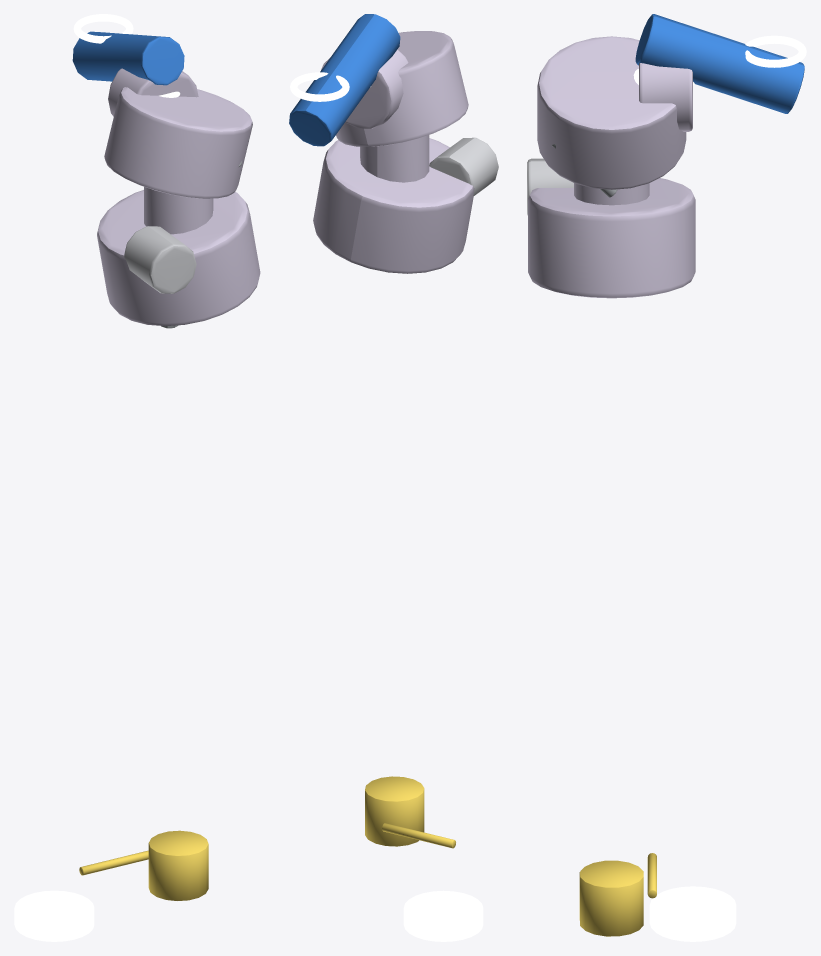
Rendered from engine_v8_turbo_r.glb.
The picture shows the model from 3 angles, left to right: view 1: azimuth 30°, elevation 25°; view 2: azimuth 150°, elevation 25°; view 3: azimuth 270°, elevation 25°; orthographic projection. The views are drawn at different scales.
Visible parts, largest first — view 1: Engine_V8_Turbo_R, GEO_V8Turbo_WastegateActuator, GEO_V8Turbo_BilletImpeller; view 2: Engine_V8_Turbo_R, GEO_V8Turbo_WastegateActuator, GEO_V8Turbo_BilletImpeller; view 3: Engine_V8_Turbo_R, GEO_V8Turbo_WastegateActuator, GEO_V8Turbo_BilletImpeller.
Part boxes in pixels (x1,y1,x2,y2): Engine_V8_Turbo_R: (72,14,260,328); GEO_V8Turbo_WastegateActuator: (79,830,208,900); GEO_V8Turbo_BilletImpeller: (14,890,94,941); Engine_V8_Turbo_R: (289,14,498,273); GEO_V8Turbo_WastegateActuator: (365,776,455,848); GEO_V8Turbo_BilletImpeller: (403,890,483,941); Engine_V8_Turbo_R: (527,14,806,298); GEO_V8Turbo_WastegateActuator: (579,853,656,936); GEO_V8Turbo_BilletImpeller: (649,886,736,941).
Size of the model in its own units: 0.1778 by 0.7766 by 0.2065.
